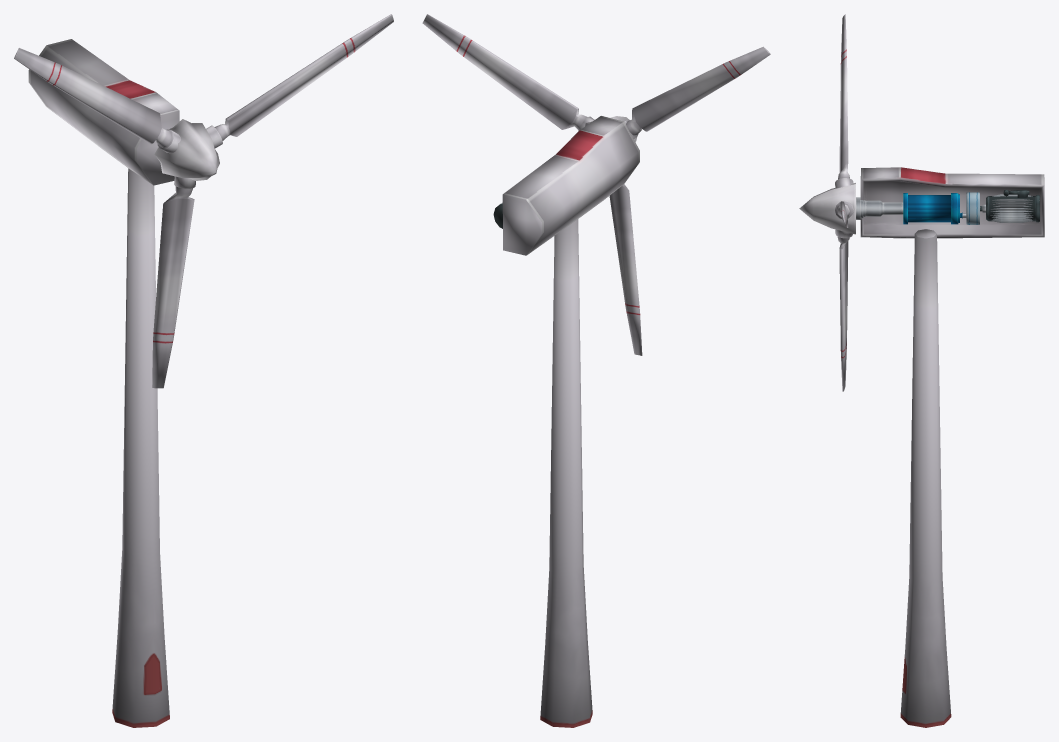
Rendered from windmill.fbx.
3 views of the same model, side by side, from view 1: azimuth 30°, elevation 25°; view 2: azimuth 150°, elevation 25°; view 3: azimuth 270°, elevation 25° (orthographic). The views are drawn at different scales.
Visible parts, largest first — view 1: Tiang, Baling-Baling, Cover Mesin; view 2: Tiang, Cover Mesin, Baling-Baling; view 3: Tiang, Cover Mesin, Baling-Baling, Mesin.
Part boxes in pixels (x1=…): Tiang: x1=112, y1=168, x2=169, y2=727; Baling-Baling: x1=14, y1=14, x2=393, y2=388; Cover Mesin: x1=28, y1=39, x2=179, y2=185; Tiang: x1=540, y1=219, x2=592, y2=727; Cover Mesin: x1=502, y1=116, x2=639, y2=255; Baling-Baling: x1=422, y1=14, x2=770, y2=355; Tiang: x1=900, y1=229, x2=951, y2=727; Cover Mesin: x1=860, y1=167, x2=1044, y2=238; Baling-Baling: x1=799, y1=14, x2=903, y2=391; Mesin: x1=903, y1=189, x2=1039, y2=224.
Bounding box in the file's own units: 90.44 × 169 × 59.28.
1 material, 1 textured.
